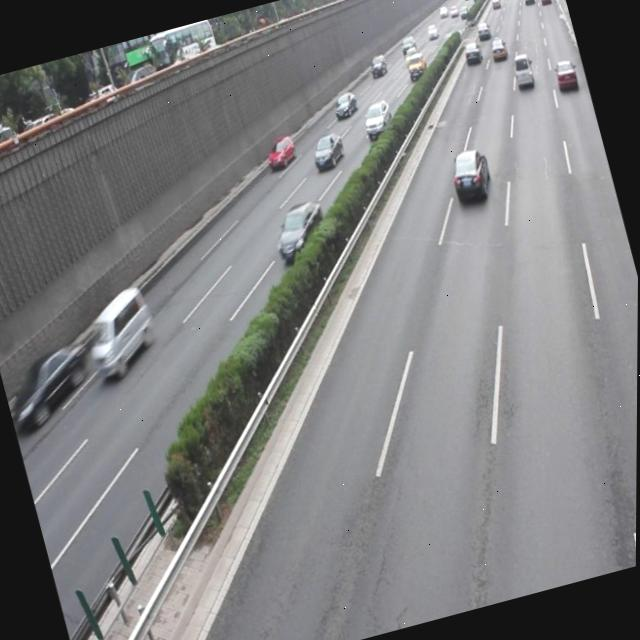car: (9, 336, 98, 422), (266, 198, 332, 262), (444, 144, 495, 206), (307, 130, 347, 172), (262, 132, 297, 170)
truck: (75, 282, 163, 382)
